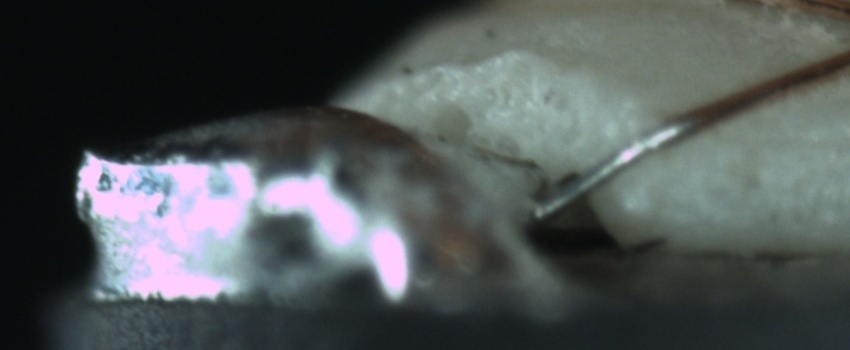DL: (685, 110, 849, 174)
TS: (532, 123, 689, 223)
